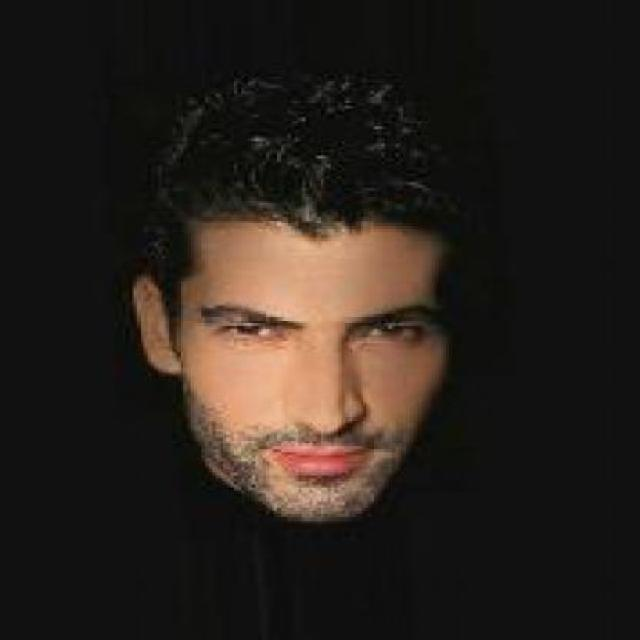closed-mouth: (268, 444, 370, 476)
